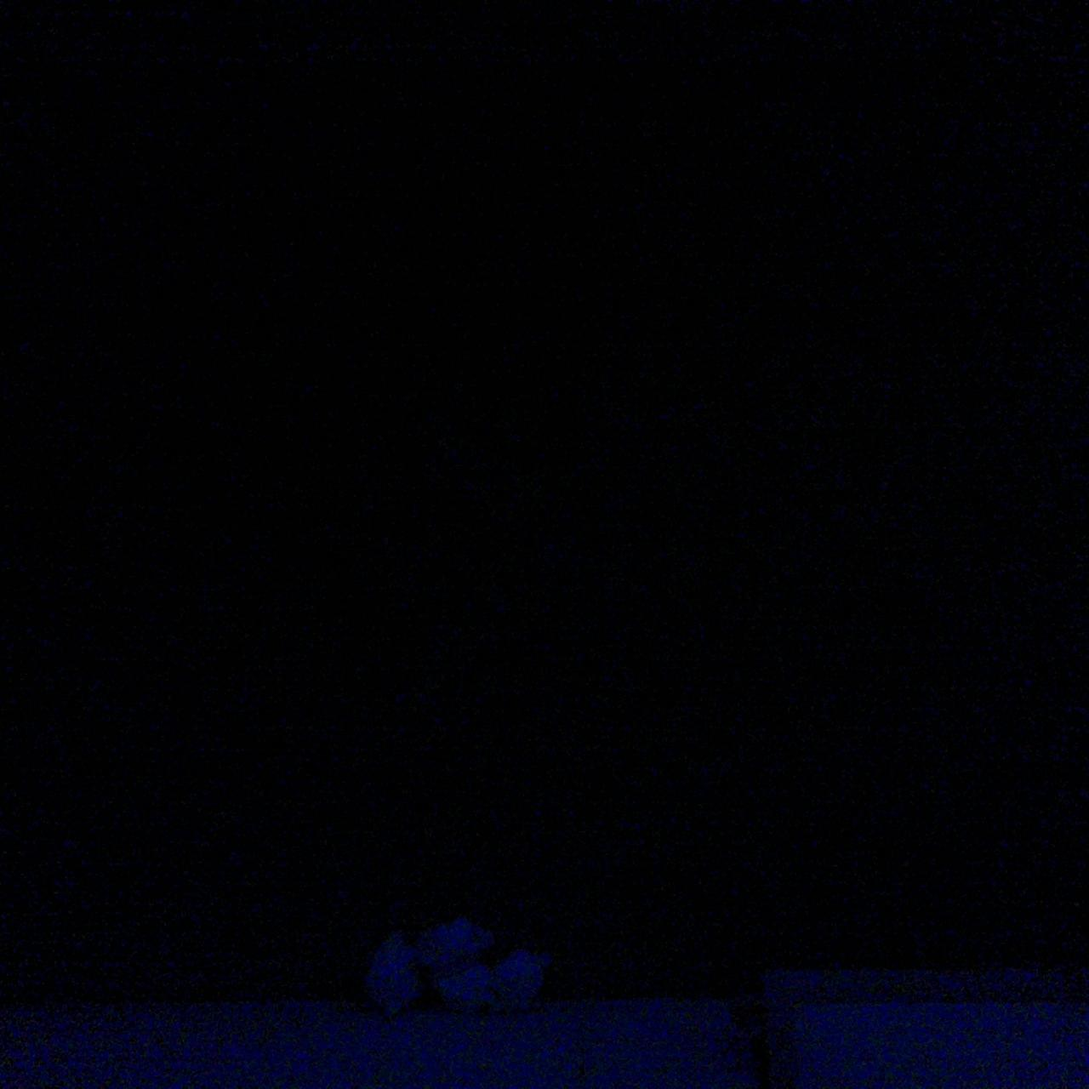chicken: (364, 928, 420, 1018), (420, 918, 494, 970), (495, 946, 553, 1012), (437, 961, 497, 1016)
